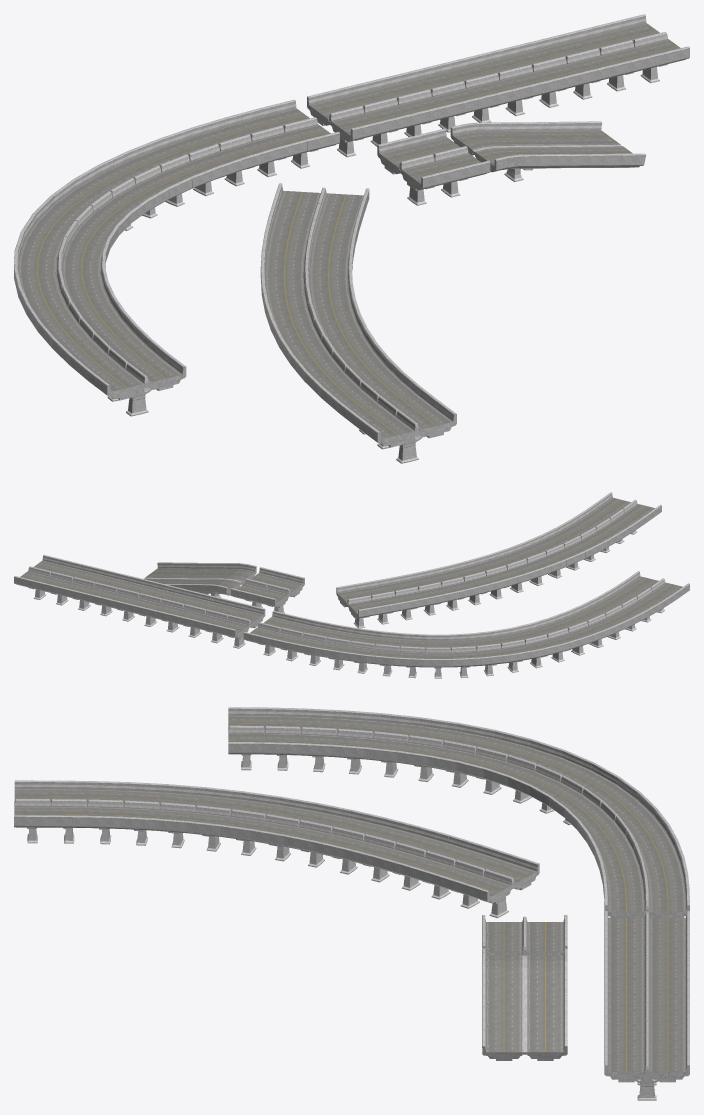
The model's file is bridges.glb.
3 views of the same model, one above another, from view 1: azimuth 30°, elevation 25°; view 2: azimuth 150°, elevation 25°; view 3: azimuth 270°, elevation 25° (orthographic). The views are drawn at different scales.
Visible parts, largest first — view 1: Plane, Plane.003, Plane.001, Plane.004, Plane.002; view 2: Plane, Plane.003, Plane.001, Plane.004, Plane.002; view 3: Plane, Plane.003, Plane.001, Plane.004, Plane.002.
Part boxes in pixels (x1,y1,x2,y2): Plane: (14, 99, 339, 416); Plane.003: (260, 183, 456, 463); Plane.001: (307, 14, 689, 157); Plane.004: (450, 121, 646, 181); Plane.002: (377, 128, 490, 205); Plane: (243, 571, 689, 678); Plane.003: (336, 492, 661, 628); Plane.001: (14, 555, 265, 648); Plane.004: (143, 562, 256, 597); Plane.002: (230, 567, 304, 613); Plane: (228, 707, 689, 917); Plane.003: (14, 780, 539, 918); Plane.001: (604, 911, 689, 1100); Plane.004: (482, 948, 567, 1060); Plane.002: (482, 915, 567, 955).
Size of the model in its own units: 37.39 by 2.3 by 29.82.
2 materials, 2 textured.
